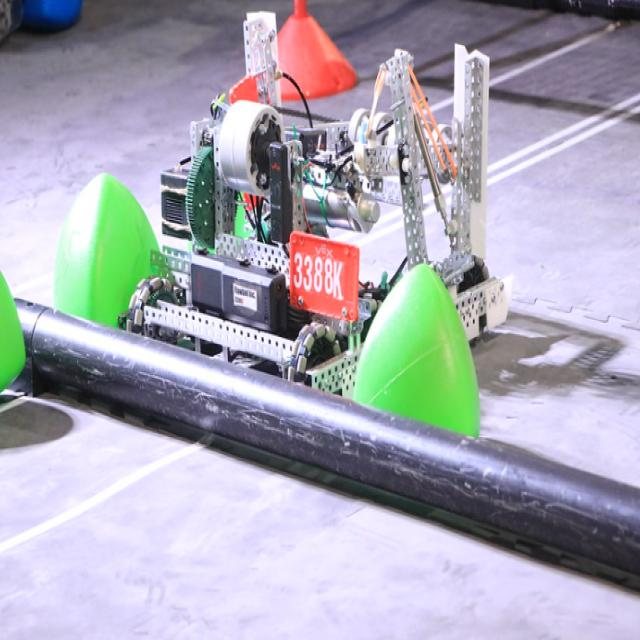License-Plates: (286, 238, 358, 317)
